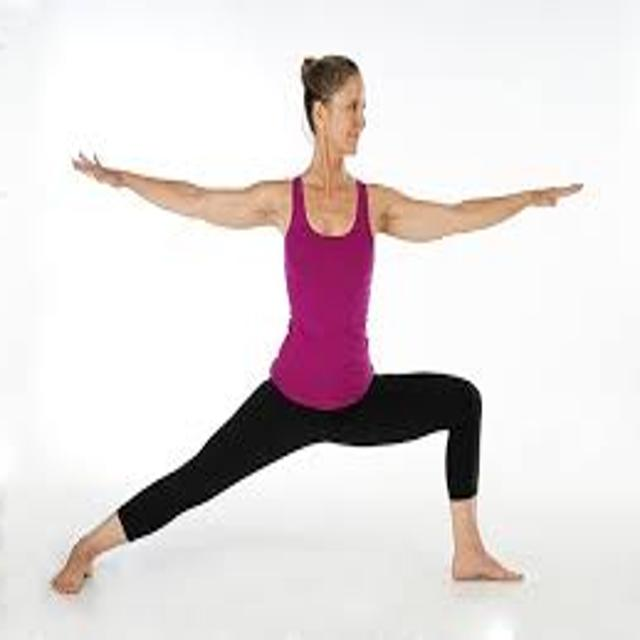Warrior_II: (45, 53, 590, 601)
